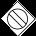GFCIOutlet: (1, 0, 36, 36)
